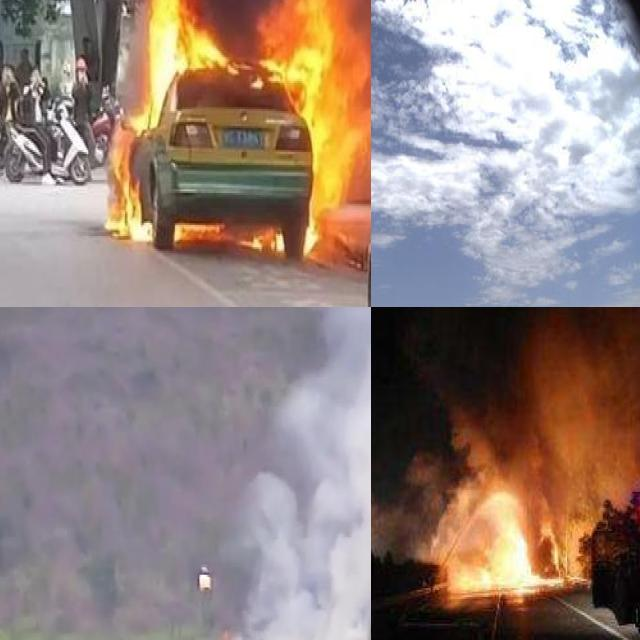fire: (98, 0, 355, 262), (450, 519, 566, 597), (211, 625, 236, 640)
smoke: (378, 307, 640, 545), (219, 307, 371, 640)
